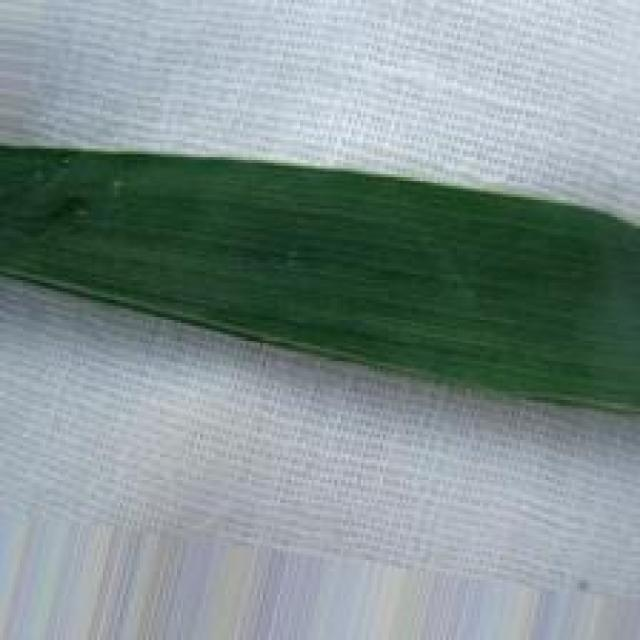Healthy: (0, 146, 640, 414)
